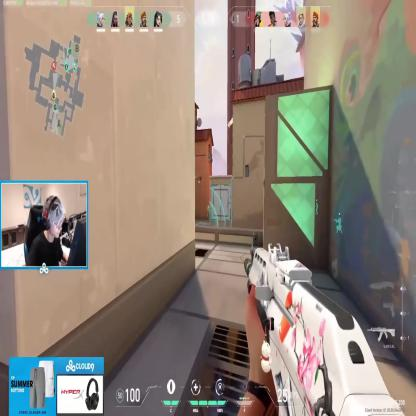enemy: (207, 205, 210, 224)
enemy_head: (208, 205, 209, 208)
